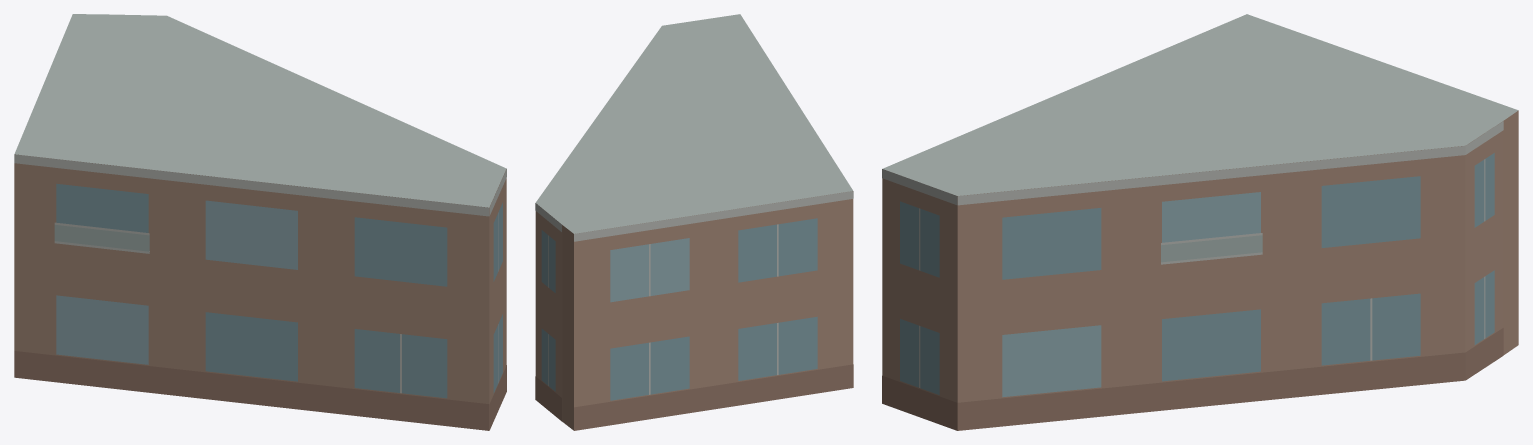
File: survey-upis-32775710.glb
The picture shows the model from 3 angles, left to right: view 1: azimuth 30°, elevation 25°; view 2: azimuth 150°, elevation 25°; view 3: azimuth 270°, elevation 25°; orthographic projection. The views are drawn at different scales.
Parts seen in each view (by area): view 1: survey-upis-32775710.tmp; view 2: survey-upis-32775710.tmp; view 3: survey-upis-32775710.tmp.
Part boxes in pixels (<box>): survey-upis-32775710.tmp: <box>14,14,506,430</box>; survey-upis-32775710.tmp: <box>535,14,853,430</box>; survey-upis-32775710.tmp: <box>882,14,1518,430</box>.
Size of the model in its own units: 10.15 by 6.1 by 14.99.
